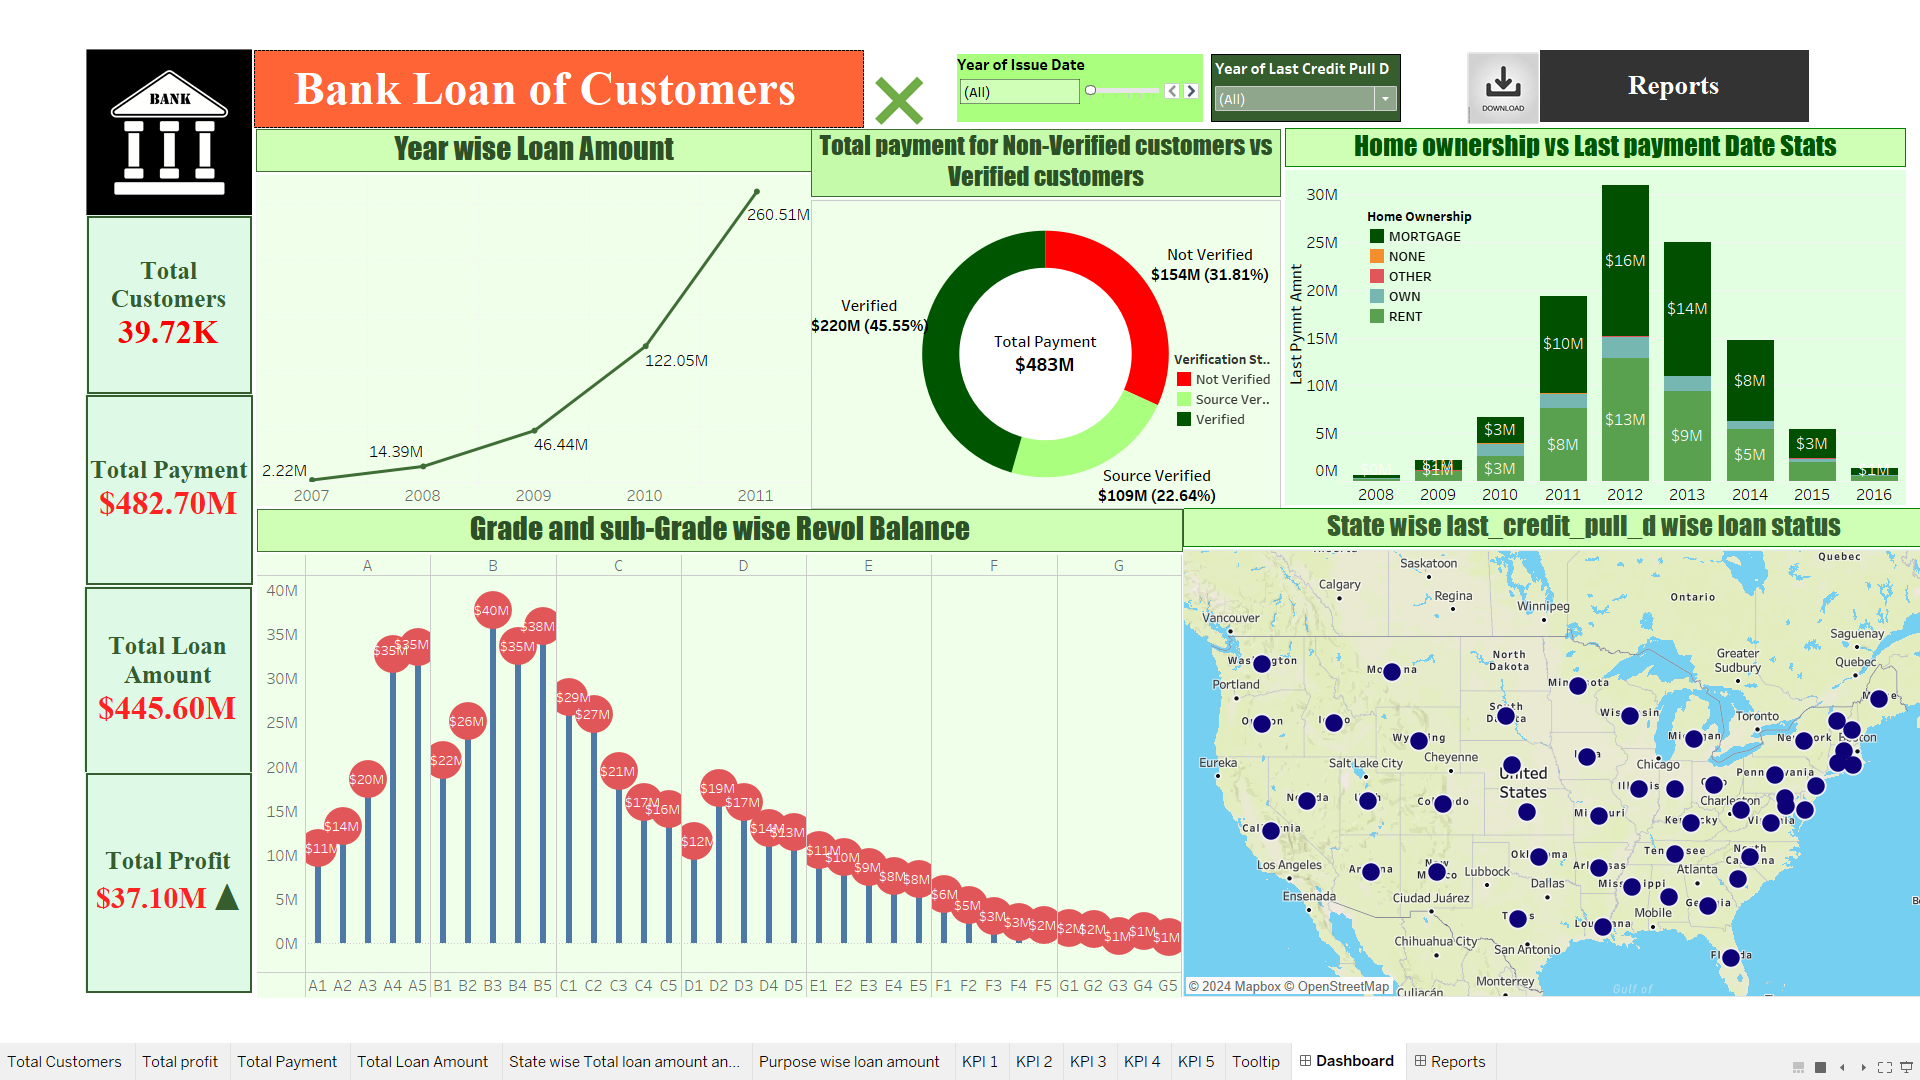

The dashboard page shown, as its layout file describes it:
{"tool":"tableau","page":{"name":"Dashboard ","canvas":[1000,1000],"units":"permille","ordinal":0},"visuals":[{"type":"image","param":"Image/—Pngtree—vector bank icon_4173728.png","box":[3,3.5,94.8,195.1]},{"type":"text","box":[98.4,4.7,347,82.3]},{"type":"filter","title":"KPI 1","param":"[federated.107ev8q0wu19dg168xfz61etbuw7].[yr:issue_date:ok]","box":[496.1,4.7,153.3,79.9]},{"type":"filter","title":"KPI 4","param":"[federated.107ev8q0wu19dg168xfz61etbuw7].[yr:last_credit_pull_d:ok]","box":[649.4,4.7,119.5,79.9]},{"type":"dashboard-object","box":[830.4,4.7,153.3,75.2]},{"type":"dashboard-object","box":[450.8,29.4,29,54.1]},{"type":"worksheet","title":"KPI 1","mark":"Line","rows":["loan_amnt"],"cols":["issue_date"],"box":[99.6,87,316.5,397.2]},{"type":"worksheet","title":"KPI 2","mark":"Pie","rows":["Calculation_739997728257245184","Calculation_739997728257245184"],"box":[415.5,87,267.3,399.5]},{"type":"worksheet","title":"Total Customers","mark":"Automatic","box":[3,162.2,94.8,204.5]},{"type":"legend","title":"KPI 5","param":"[federated.107ev8q0wu19dg168xfz61etbuw7].[none:home_ownership:nk]","box":[732.1,169.2,84.5,131.6]},{"type":"legend","title":"KPI 2","param":"[federated.107ev8q0wu19dg168xfz61etbuw7].[none:verification_status:nk]","box":[622.2,319.6,57.3,99.9]},{"type":"worksheet","title":"Total Payment","mark":"Automatic","box":[2.4,365.4,95.4,200.9]},{"type":"worksheet","title":"KPI 3","mark":"Bar","rows":["revol_bal","revol_bal"],"cols":["grade","sub_grade"],"box":[100.2,486.5,527,514.7]},{"type":"worksheet","title":"Total Loan Amount","mark":"Automatic","box":[1.8,567.6,95.4,197.4]},{"type":"worksheet","title":"Total profit","mark":"Automatic","box":[2.4,763.8,94.8,232.7]}]}

Visuals, with their boxes on the dashboard's canvas, which has no fixed pixel size, in thousandths of its width and height (x1, y1, x2, y2). These are canvas units, not pixel positions in the 1920x1080 screenshot, which may show the page scaled, cropped or inside an application window:
image: <box>3,4,98,199</box>
text: <box>98,5,445,87</box>
"KPI 1" filter: <box>496,5,649,85</box>
"KPI 4" filter: <box>649,5,769,85</box>
dashboard-object: <box>830,5,984,80</box>
dashboard-object: <box>451,29,480,84</box>
"KPI 1" worksheet (Line marks): <box>100,87,416,484</box>
"KPI 2" worksheet (Pie marks): <box>416,87,683,486</box>
"Total Customers" worksheet: <box>3,162,98,367</box>
"KPI 5" legend: <box>732,169,817,301</box>
"KPI 2" legend: <box>622,320,680,420</box>
"Total Payment" worksheet: <box>2,365,98,566</box>
"KPI 3" worksheet (Bar marks): <box>100,486,627,1001</box>
"Total Loan Amount" worksheet: <box>2,568,97,765</box>
"Total profit" worksheet: <box>2,764,97,996</box>
